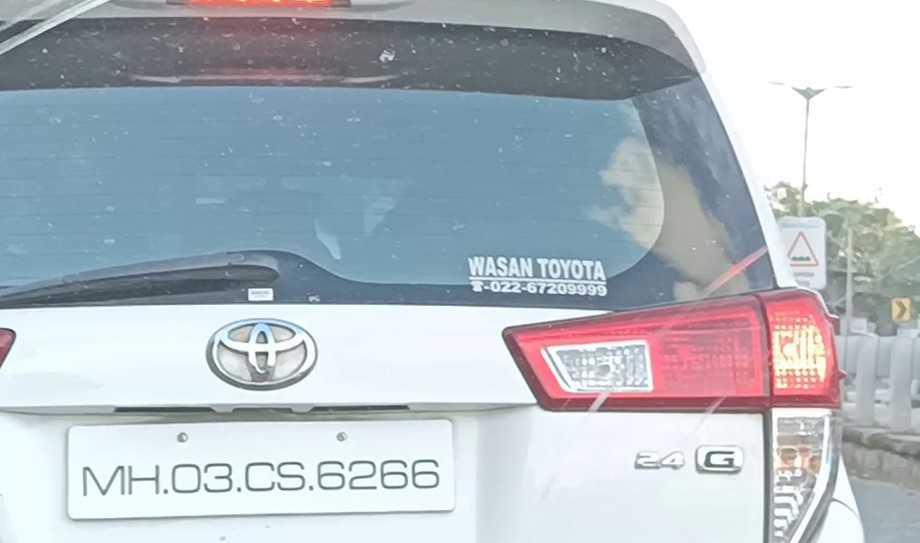MH03CS6266: (65, 416, 459, 521)
